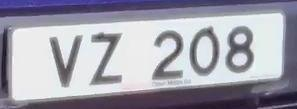0: (187, 22, 223, 84)
2: (146, 23, 189, 88)
8: (222, 19, 259, 81)
V: (43, 31, 89, 91)
Z: (85, 28, 130, 91)
